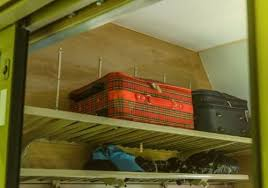suitcase: (67, 70, 194, 129), (189, 87, 252, 140)
